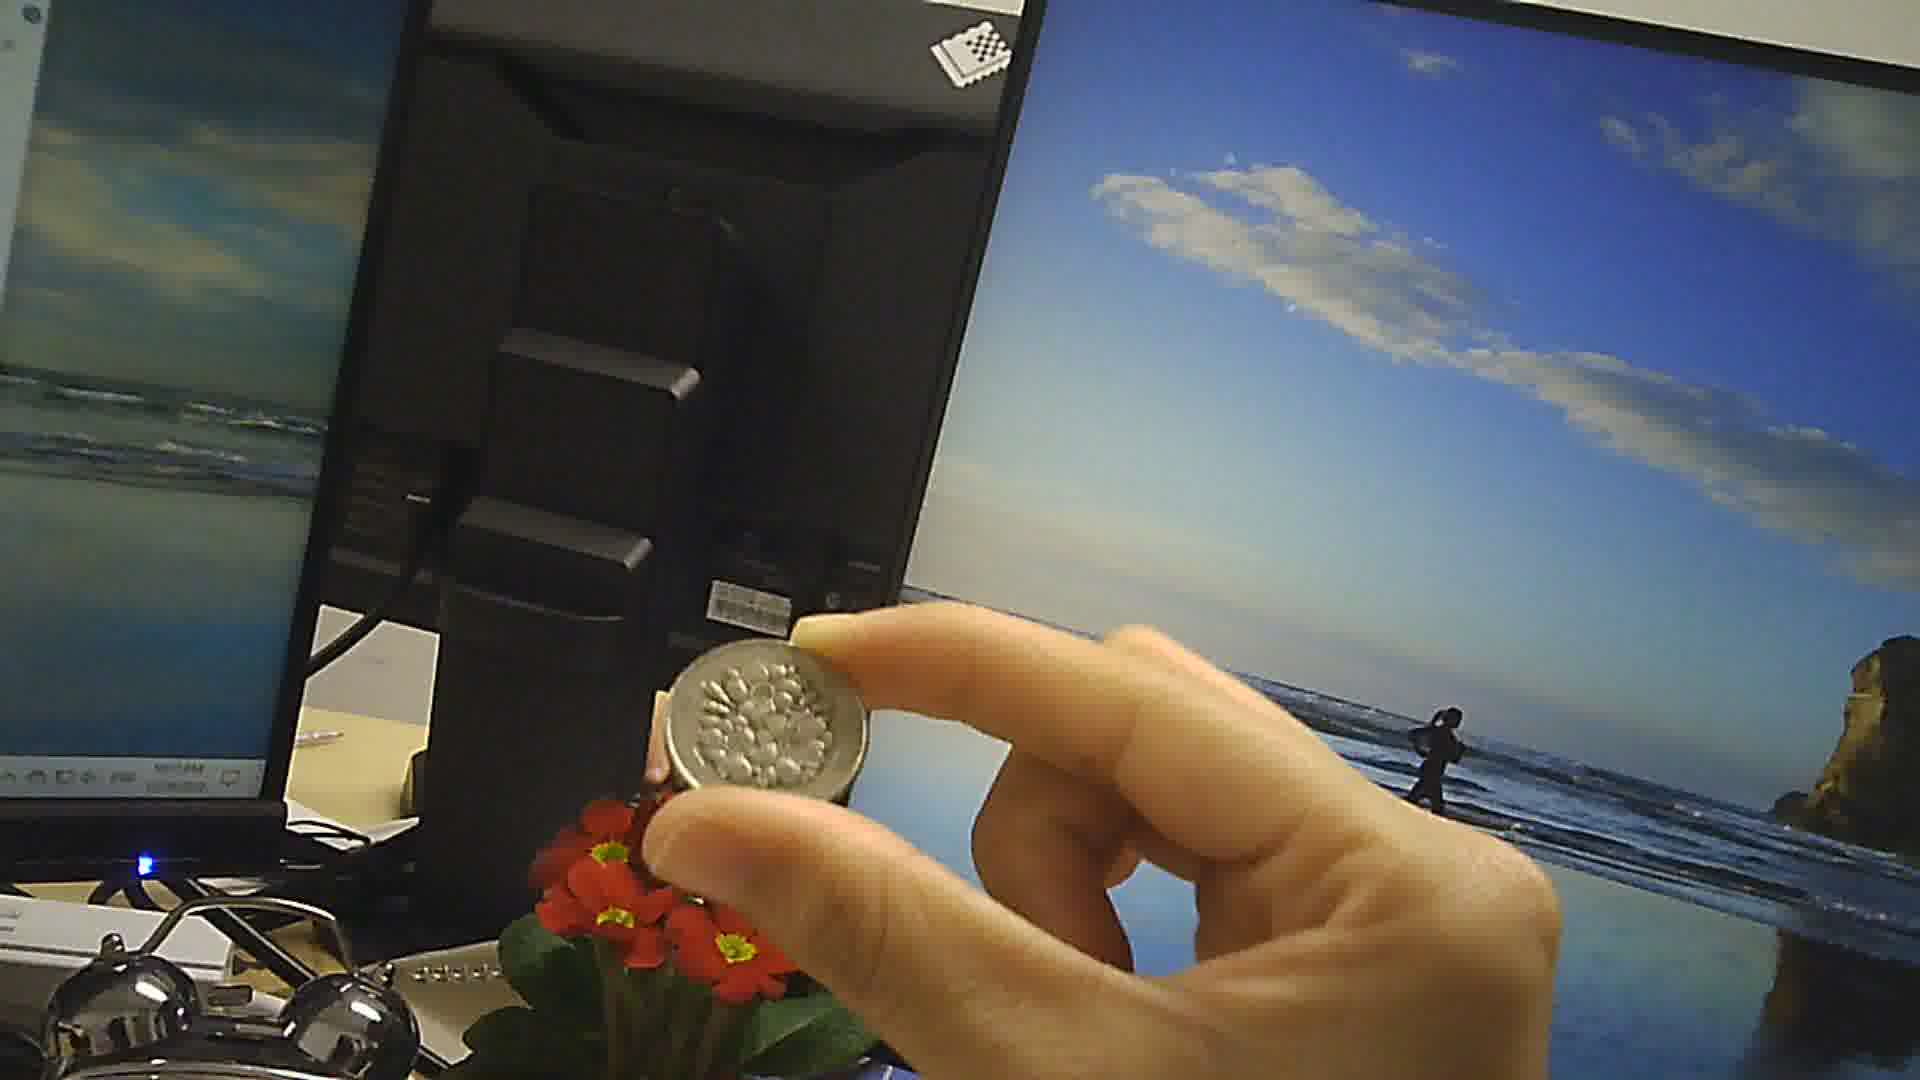100 Yen: (659, 629, 880, 811)
